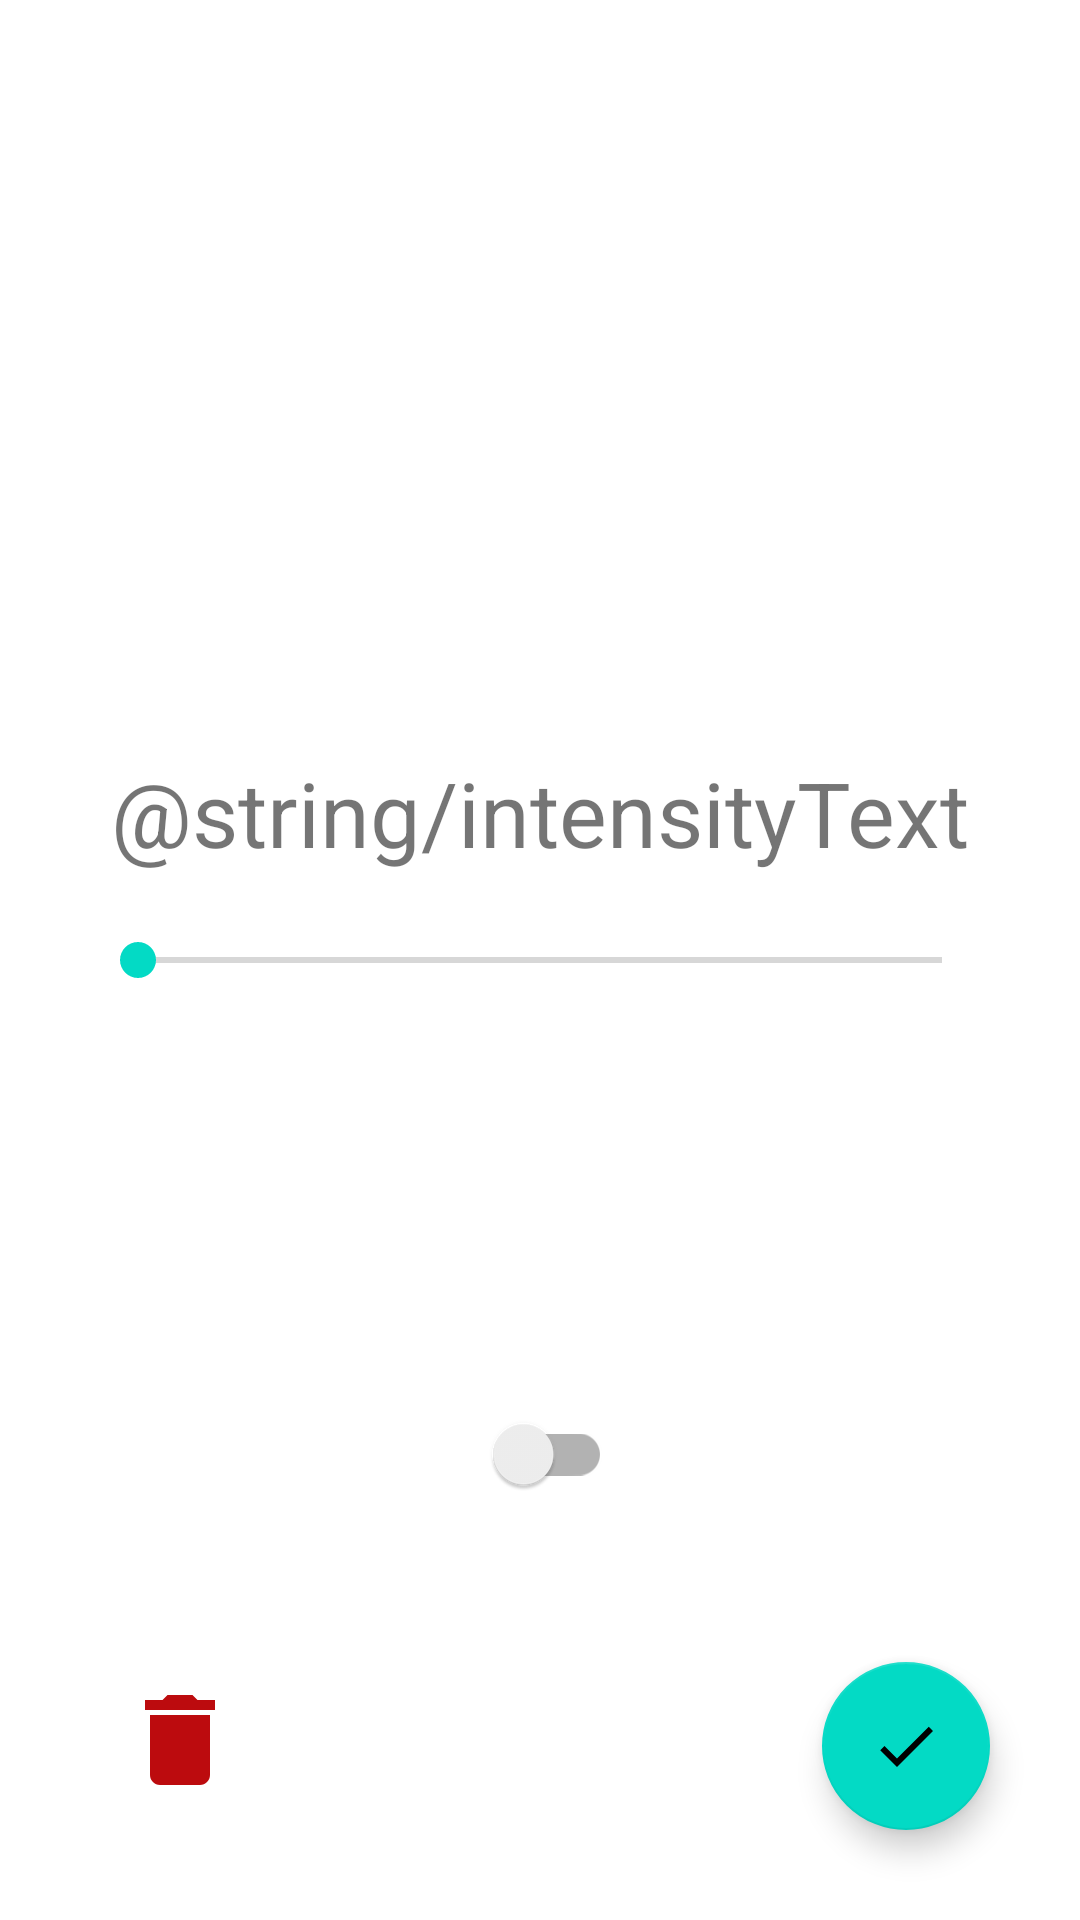

Point at icon controls on the screen. Image size 1080x1920, points as [x,y].
check: [906,1746]
delete: [180,1740]
